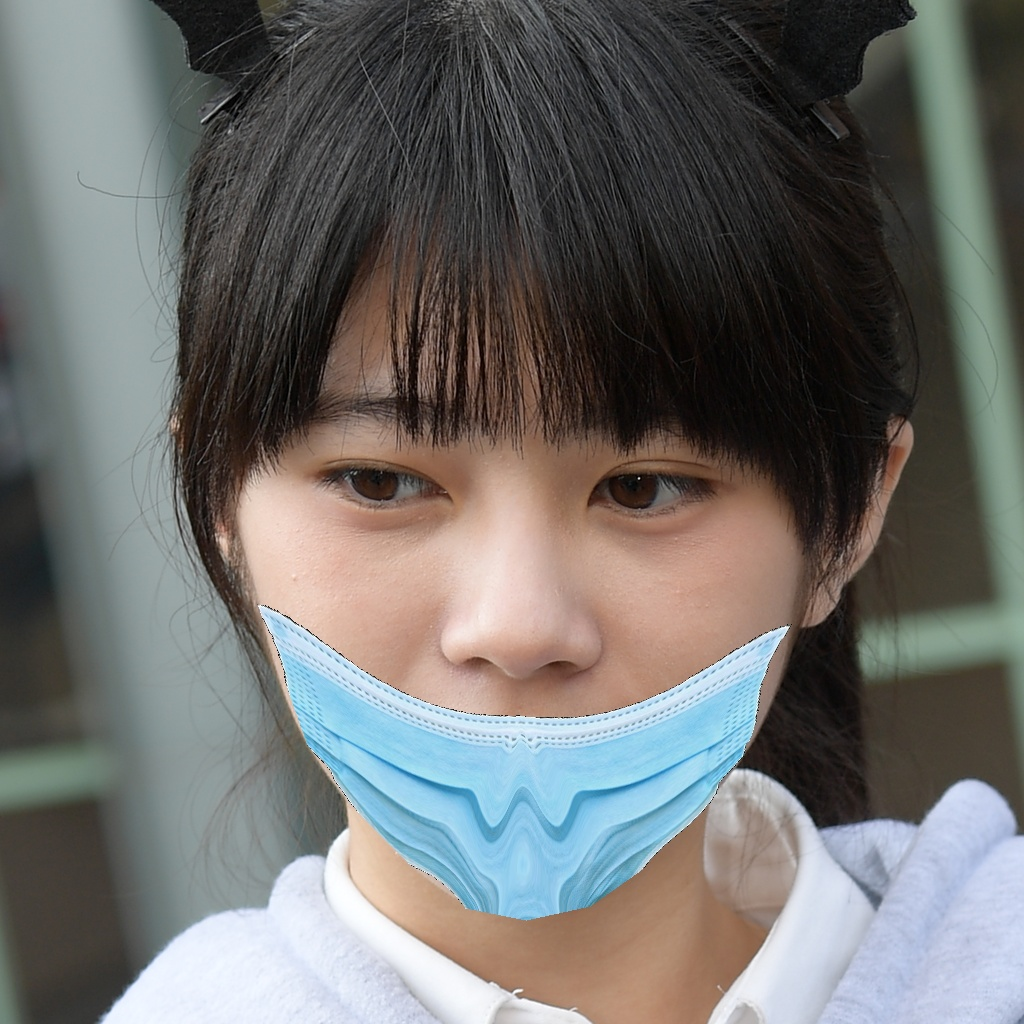mask_weared_incorrect: (216, 379, 822, 936)
